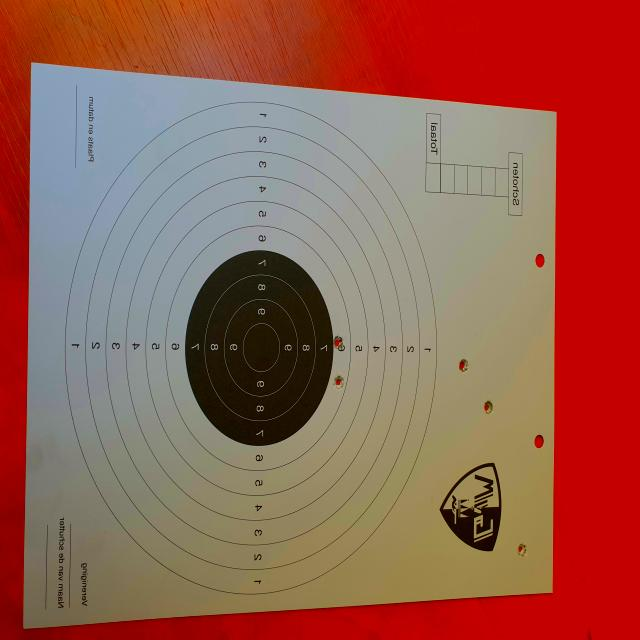0: (457, 357, 470, 375), (481, 398, 493, 417), (515, 542, 528, 557)
6: (330, 374, 348, 390), (332, 334, 346, 351)
Target: (64, 102, 437, 602)
black_contour: (185, 249, 334, 446)
